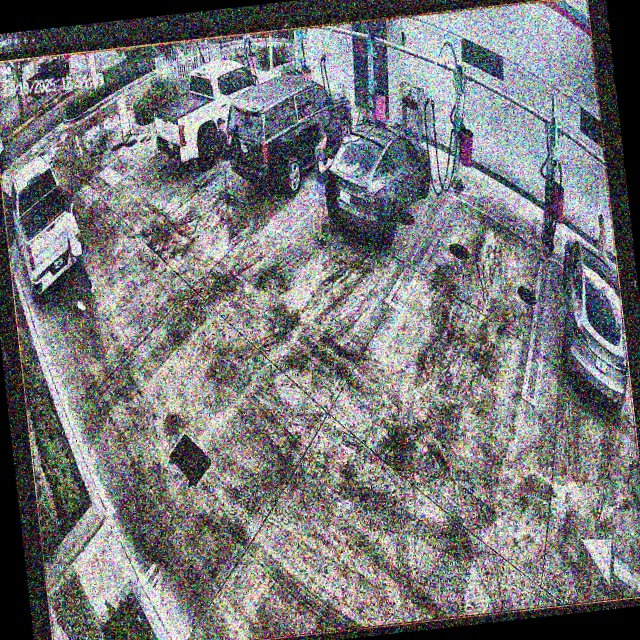Car: (220, 68, 359, 198), (318, 112, 438, 254), (149, 52, 283, 167)
